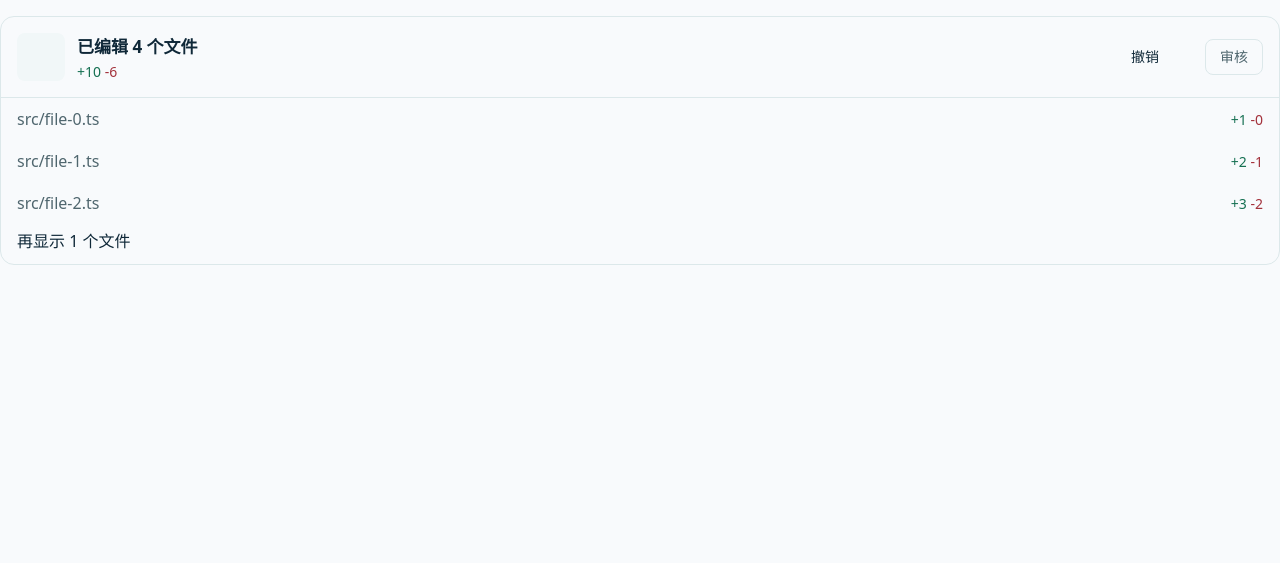
结果卡默认显示前三个文件、准确统计，文件展开与审核相互独立
Expected: the header shows "已编辑 4 个文件", [77,35,198,58]
Expected: the text with class "stat-add" reads "+10", [77,62,101,81]
Step 1. Click the button "再显示 1 个文件" → (85, 240), box [17,228,154,252]
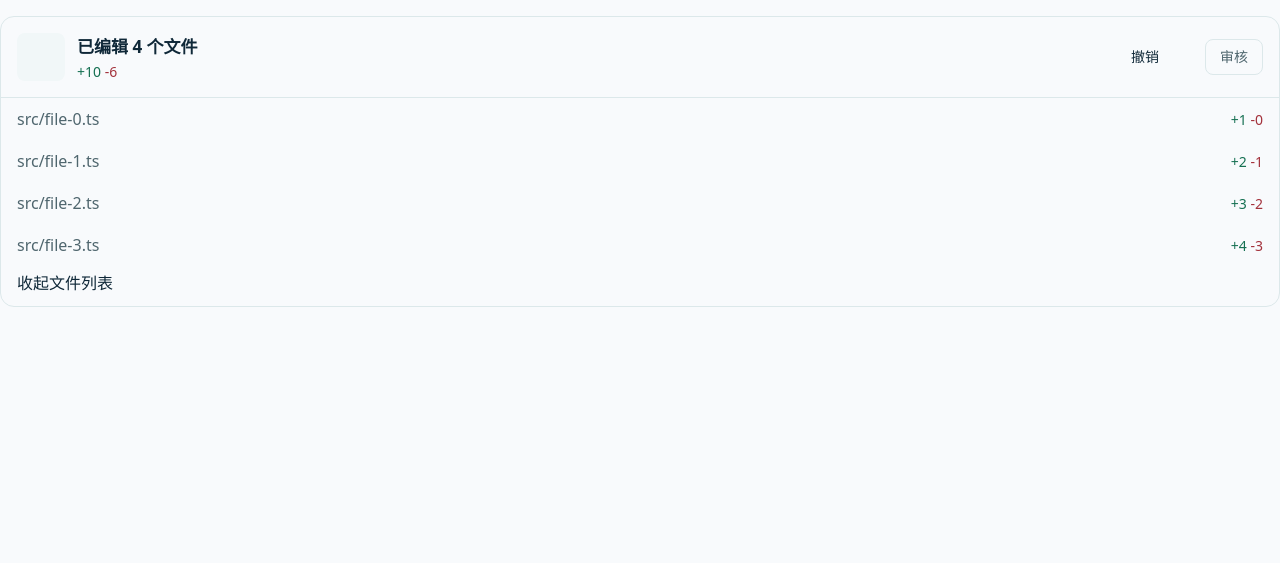
Expected: the number of list items with test id "result-file-row" is 4, [17,108,1263,130]; [17,150,1263,172]; [17,192,1263,214]; [17,234,1263,256]
Step 2. Click the button "审核" → (1234, 57), box [1205,39,1263,75]
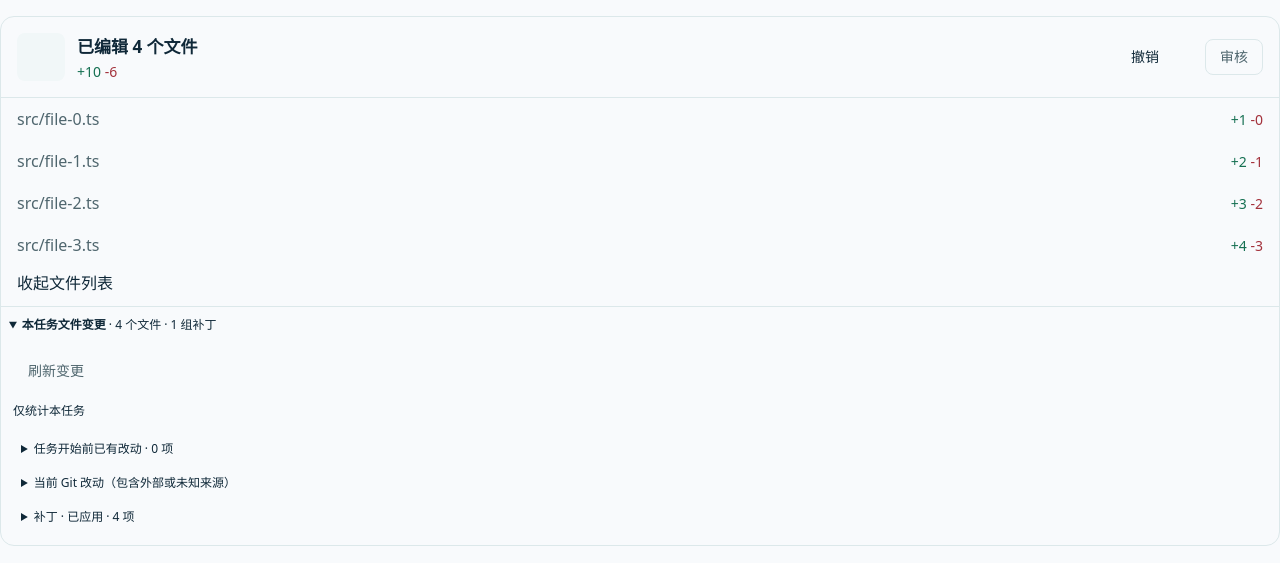
Step 3. Click the button "收起文件列表" → (76, 282), box [17,270,136,294]
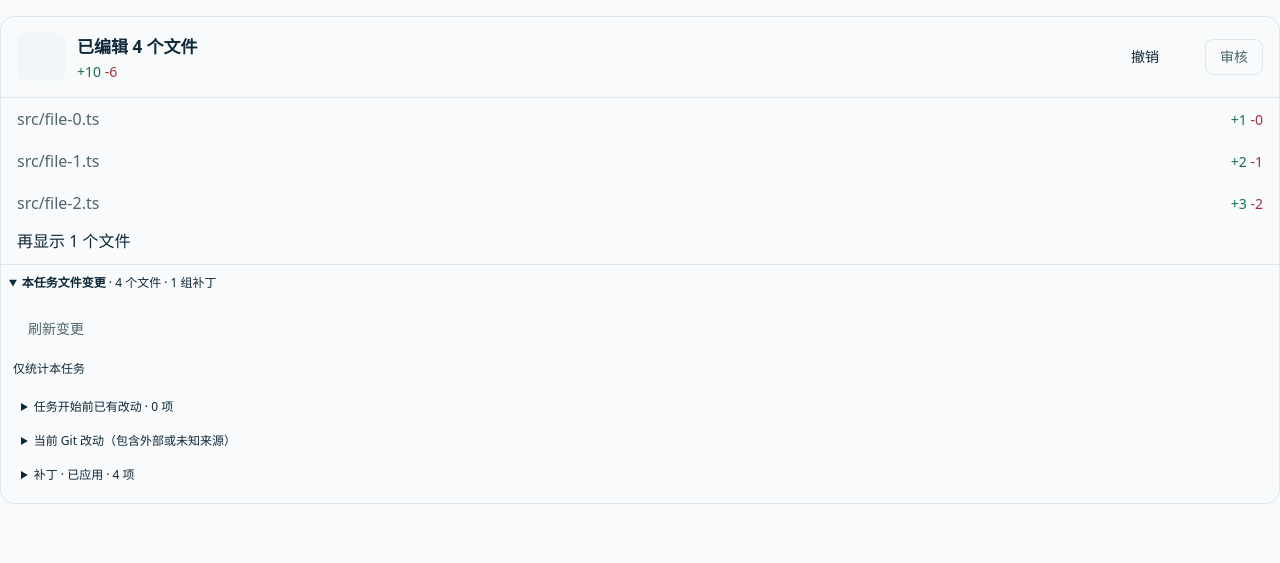
Expected: the number of list items with test id "result-file-row" is 3, [17,108,1263,130]; [17,150,1263,172]; [17,192,1263,214]
